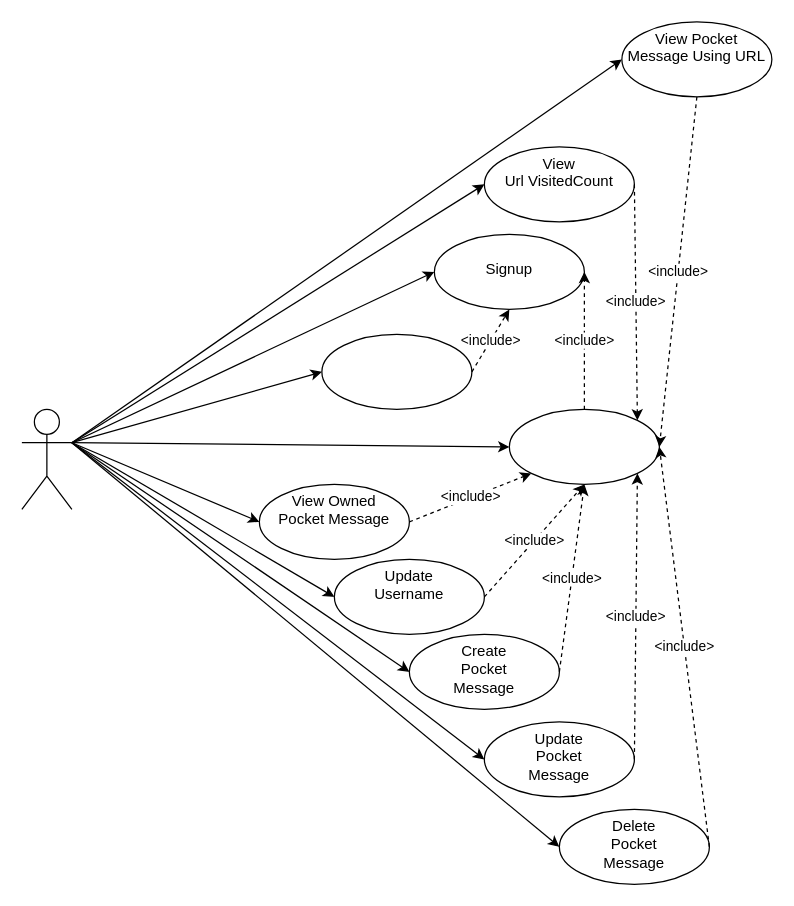
The diagram is 794 pixels wide and 906 high, and some of its shapes have lost their labels. Each missing label, with the centre of its shape:
Creator: the point at 46,458
Login: the point at 583,446
Update Password: the point at 396,371
